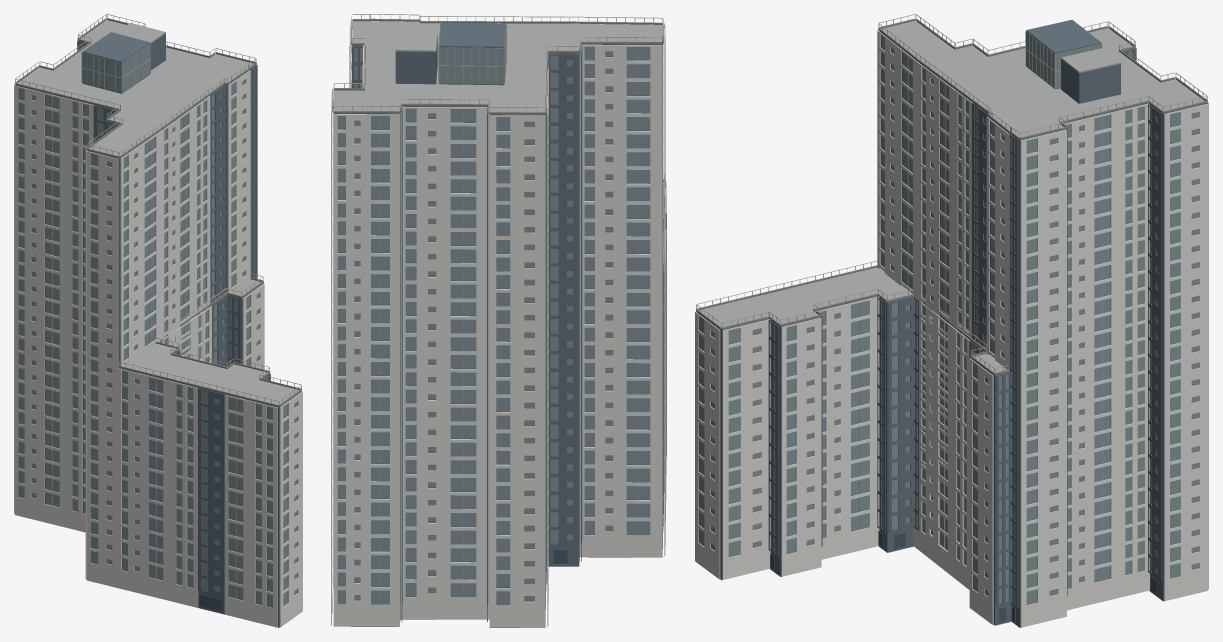
File: bespoke-raemian-onebailey-103.glb
3 views of the same model, side by side, from view 1: azimuth 30°, elevation 25°; view 2: azimuth 150°, elevation 25°; view 3: azimuth 270°, elevation 25° (orthographic). The views are drawn at different scales.
Visible parts, largest first — view 1: 103_pale_bays_navy_shafts005_4, 103_pale_bays_navy_shafts005, 103_editable_massing, 103_glass_roof_crown005_3, 103_pale_bays_navy_shafts005_2, 103_glass_roof_crown005; view 2: 103_pale_bays_navy_shafts005_4, 103_pale_bays_navy_shafts005, 103_editable_massing, 103_glass_roof_crown005_3, 103_pale_bays_navy_shafts005_2, 103_glass_roof_crown005; view 3: 103_pale_bays_navy_shafts005_4, 103_pale_bays_navy_shafts005, 103_editable_massing, 103_glass_roof_crown005_3, 103_pale_bays_navy_shafts005_2, 103_glass_roof_crown005.
Boxes of the visible parts, <box> form: 103_pale_bays_navy_shafts005_4: <box>14,25,302,627</box>; 103_pale_bays_navy_shafts005: <box>18,43,297,607</box>; 103_editable_massing: <box>16,32,300,627</box>; 103_glass_roof_crown005_3: <box>17,20,299,406</box>; 103_pale_bays_navy_shafts005_2: <box>15,14,301,598</box>; 103_glass_roof_crown005: <box>15,18,301,406</box>; 103_pale_bays_navy_shafts005_4: <box>331,21,666,627</box>; 103_pale_bays_navy_shafts005: <box>333,24,664,604</box>; 103_editable_massing: <box>333,22,666,627</box>; 103_glass_roof_crown005_3: <box>333,21,664,263</box>; 103_pale_bays_navy_shafts005_2: <box>332,14,664,604</box>; 103_glass_roof_crown005: <box>332,18,665,274</box>; 103_pale_bays_navy_shafts005_4: <box>695,23,1208,627</box>; 103_pale_bays_navy_shafts005: <box>699,31,1198,604</box>; 103_editable_massing: <box>697,19,1206,627</box>; 103_glass_roof_crown005_3: <box>699,20,1204,374</box>; 103_pale_bays_navy_shafts005_2: <box>696,14,1207,580</box>; 103_glass_roof_crown005: <box>696,18,1207,374</box>.
Bounding box in the file's own units: 44.44 × 90.45 × 80.2.
